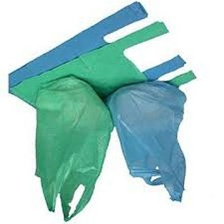plastic_bag: (2, 1, 203, 113), (7, 19, 203, 129), (27, 73, 117, 224), (101, 76, 195, 204)
